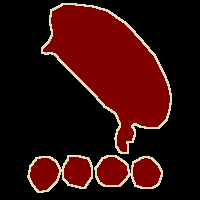hat: (42, 4, 171, 153), (28, 156, 60, 192), (95, 156, 129, 186), (131, 156, 162, 188), (62, 155, 92, 188)
